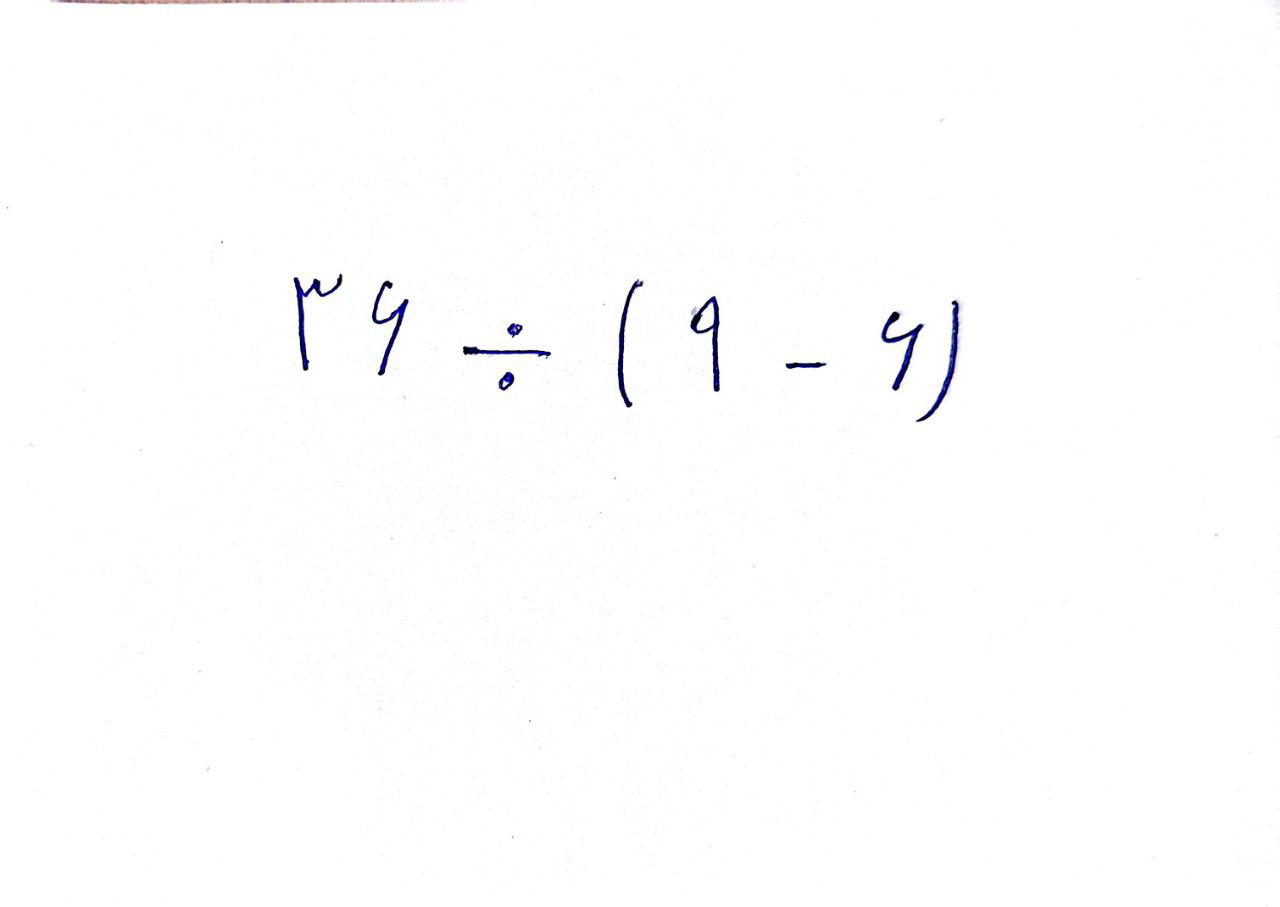character: (458, 319, 553, 391), (913, 295, 962, 429), (292, 271, 345, 374), (612, 275, 648, 412), (686, 295, 727, 391), (880, 311, 925, 398), (371, 279, 409, 379), (780, 356, 828, 374)
